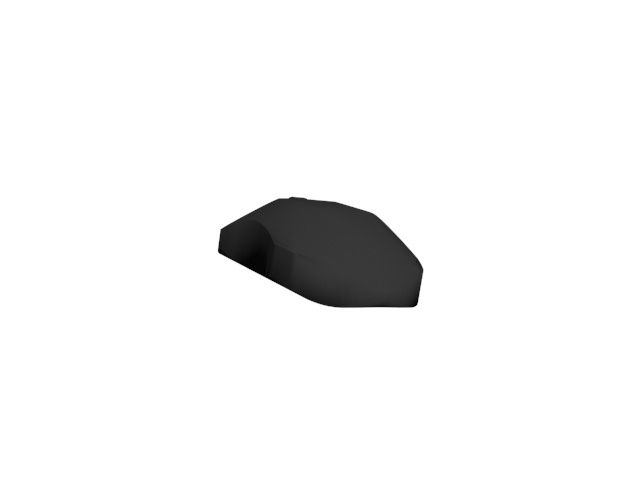mouse: (217, 193, 424, 312)
